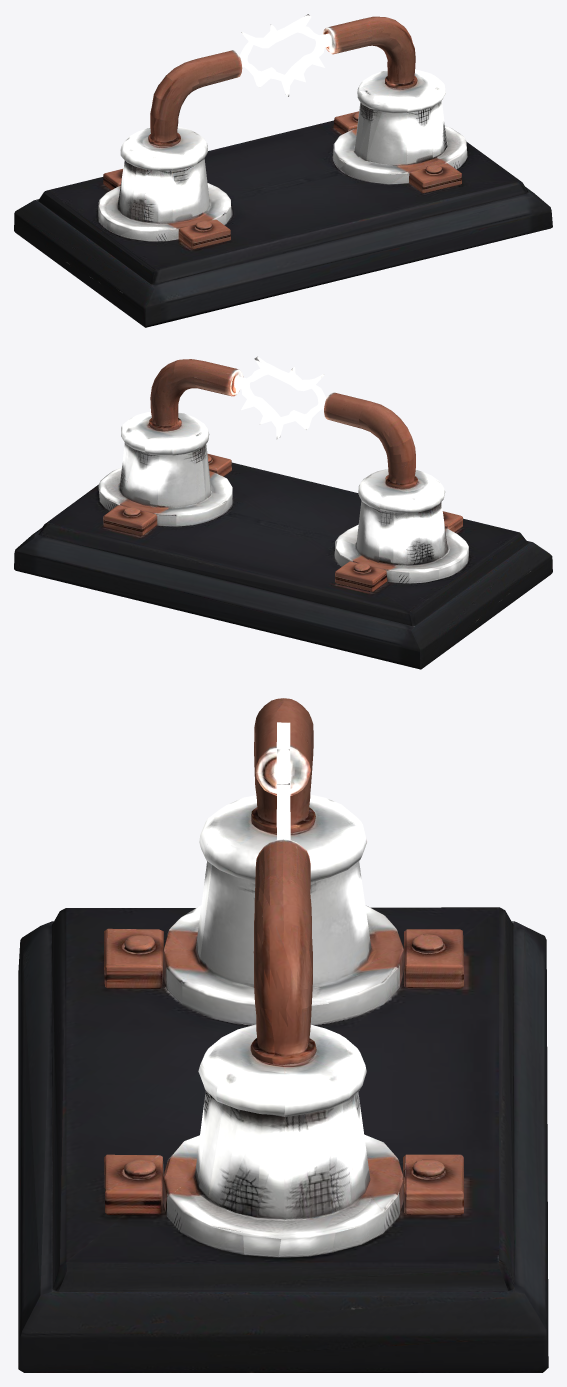
The model's file is arc_flash.glb.
The picture shows the model from 3 angles, top to bottom: view 1: azimuth 30°, elevation 25°; view 2: azimuth 150°, elevation 25°; view 3: azimuth 270°, elevation 25°; orthographic projection. The views are drawn at different scales.
Bounding box in the file's own units: 1 × 0.4883 × 0.5625.
Materials: 1 (1 with a texture image).
